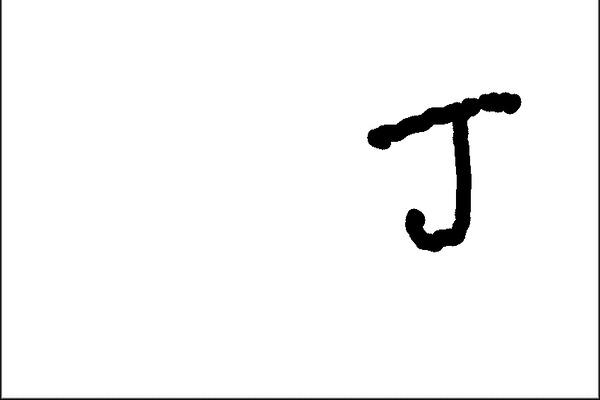J: (361, 83, 527, 264)
